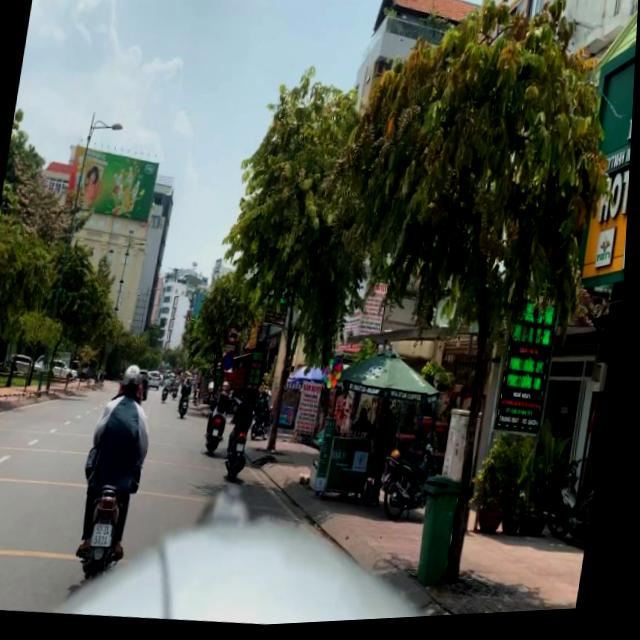Cam do xe: (225, 353, 239, 375)
